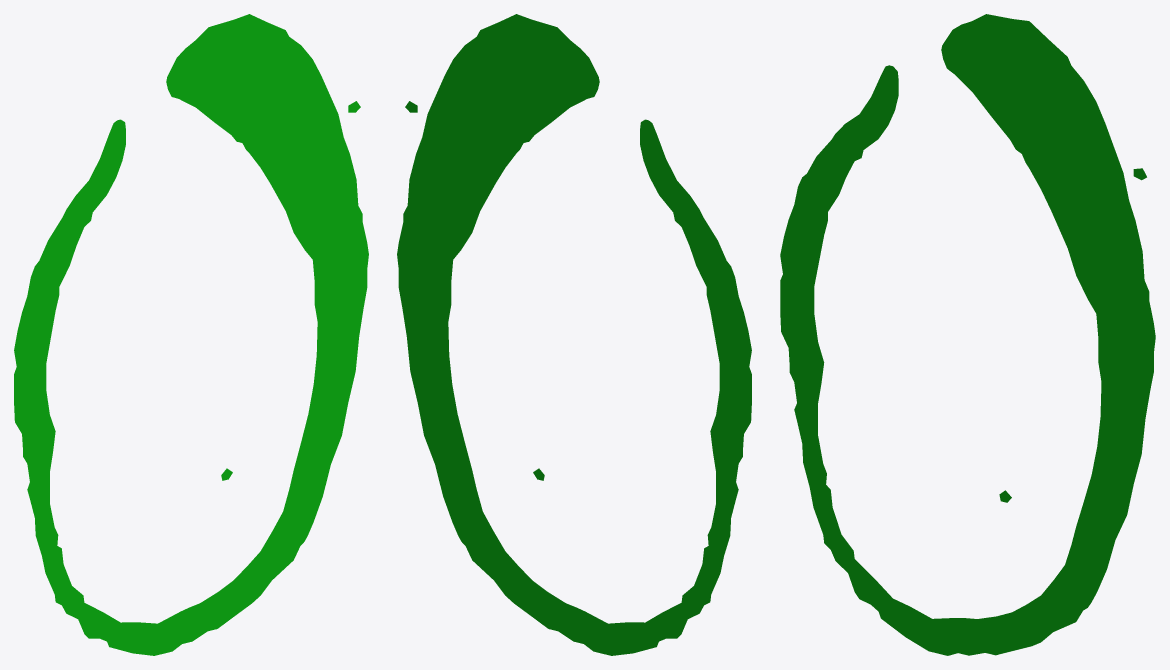
The model's file is hszero.obj.
3 views of the same model, side by side, from view 1: azimuth 30°, elevation 25°; view 2: azimuth 150°, elevation 25°; view 3: azimuth 330°, elevation 25° (orthographic). The views are drawn at different scales.
Visible parts, largest first — view 1: hszero.008; view 2: hszero.008; view 3: hszero.008.
Boxes of the visible parts, x1=… form: hszero.008: x1=14, y1=14, x2=368, y2=655; hszero.008: x1=397, y1=14, x2=751, y2=655; hszero.008: x1=780, y1=14, x2=1155, y2=655.
Bounding box in the file's own units: 0.3394 × 0.5654 × 0.
